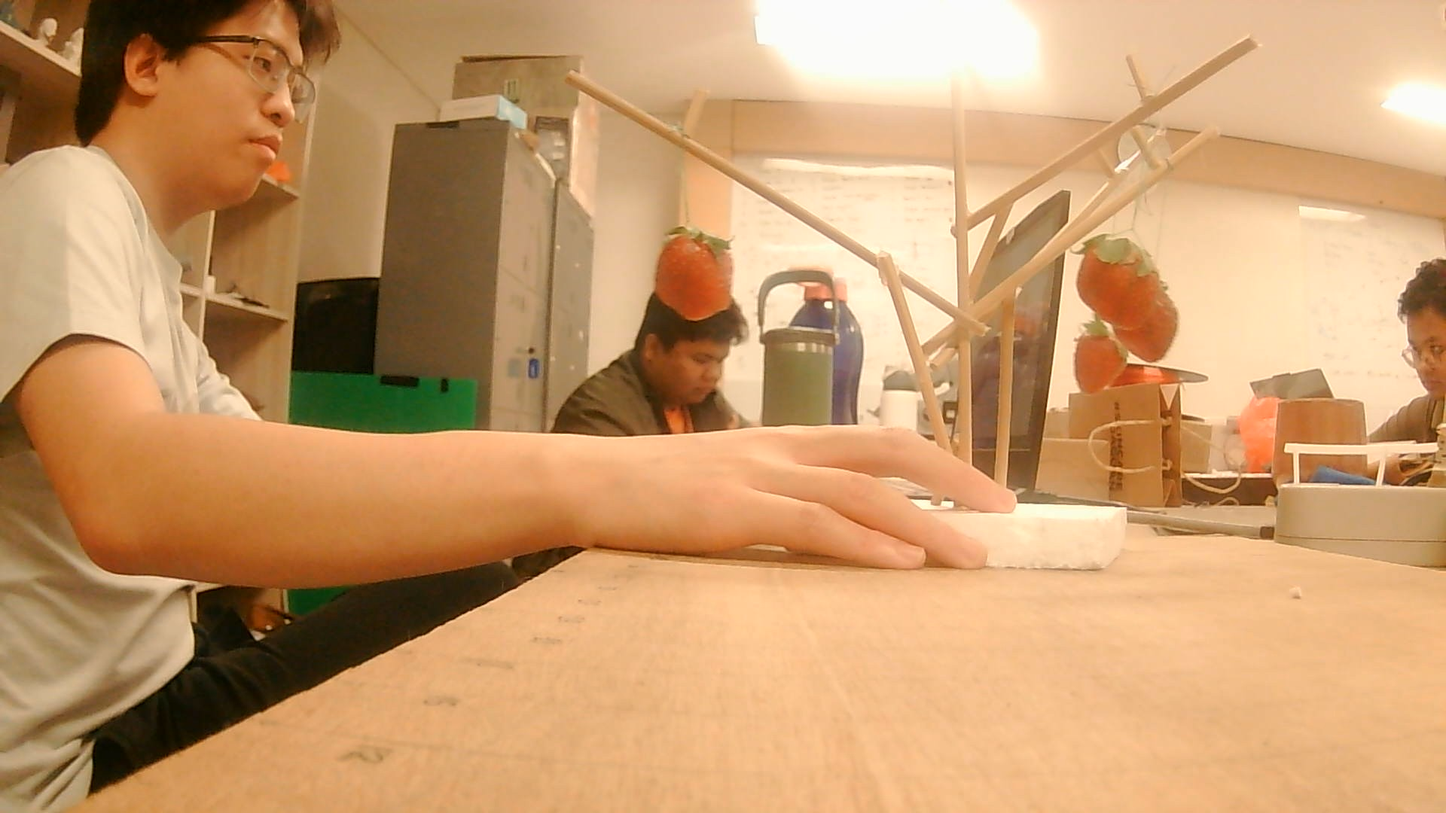strawberry: (644, 221, 743, 323), (1079, 231, 1157, 335), (1118, 259, 1173, 369), (1075, 321, 1126, 402)
